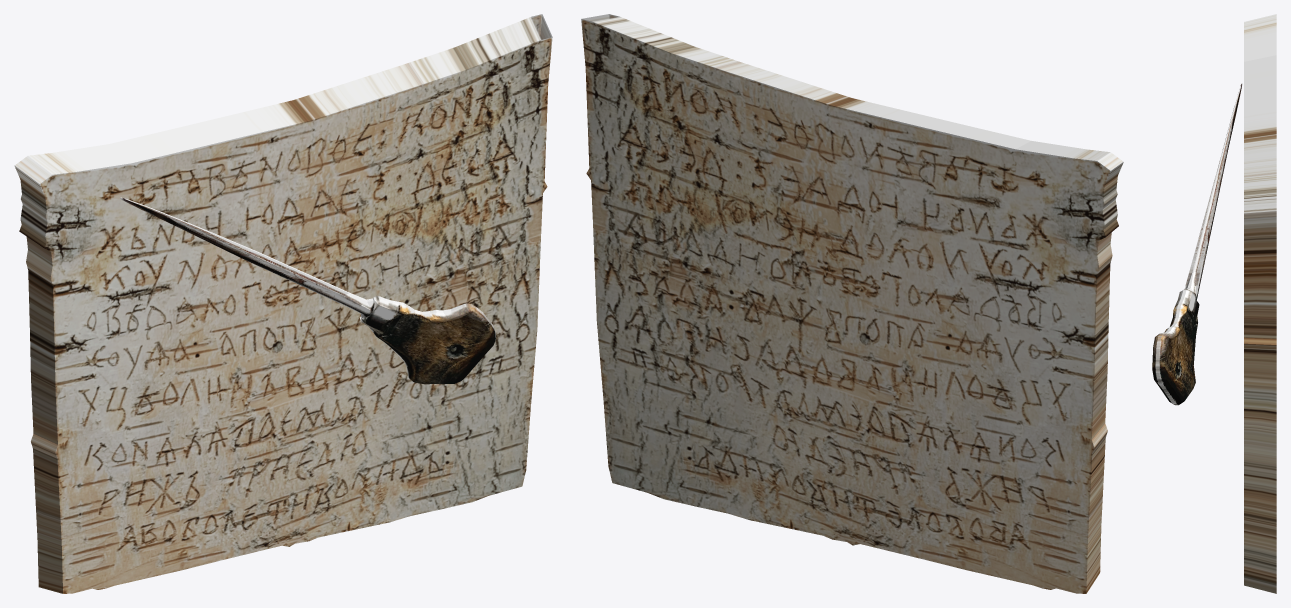
3 renders of one model, left to right at view 1: azimuth 30°, elevation 25°; view 2: azimuth 150°, elevation 25°; view 3: azimuth 270°, elevation 25°, orthographic. The views are drawn at different scales.
Visible parts, largest first — view 1: Birch_bark_manuscript_main_mesh, Birch_bark_manuscript_pen_mesh; view 2: Birch_bark_manuscript_main_mesh; view 3: Birch_bark_manuscript_main_mesh, Birch_bark_manuscript_pen_mesh.
Part boxes in pixels (x1,y1,x2,y2): Birch_bark_manuscript_main_mesh: (14, 14, 552, 593); Birch_bark_manuscript_pen_mesh: (120, 197, 495, 384); Birch_bark_manuscript_main_mesh: (581, 14, 1123, 593); Birch_bark_manuscript_main_mesh: (1244, 14, 1276, 593); Birch_bark_manuscript_pen_mesh: (1152, 83, 1242, 405).
Size of the model in its own units: 1.23 by 1.02 by 0.2925.
2 materials, 2 textured.
